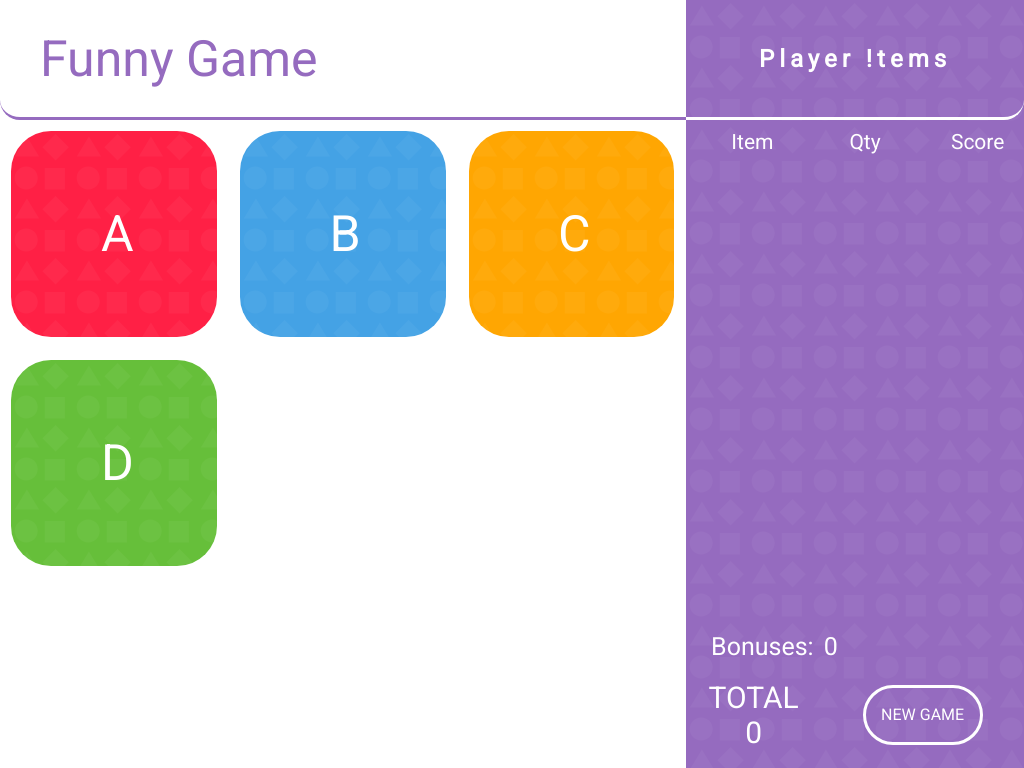
Scenario: test menu › item action
Click the element showing "A" at (114,234), box [11, 131, 217, 337]
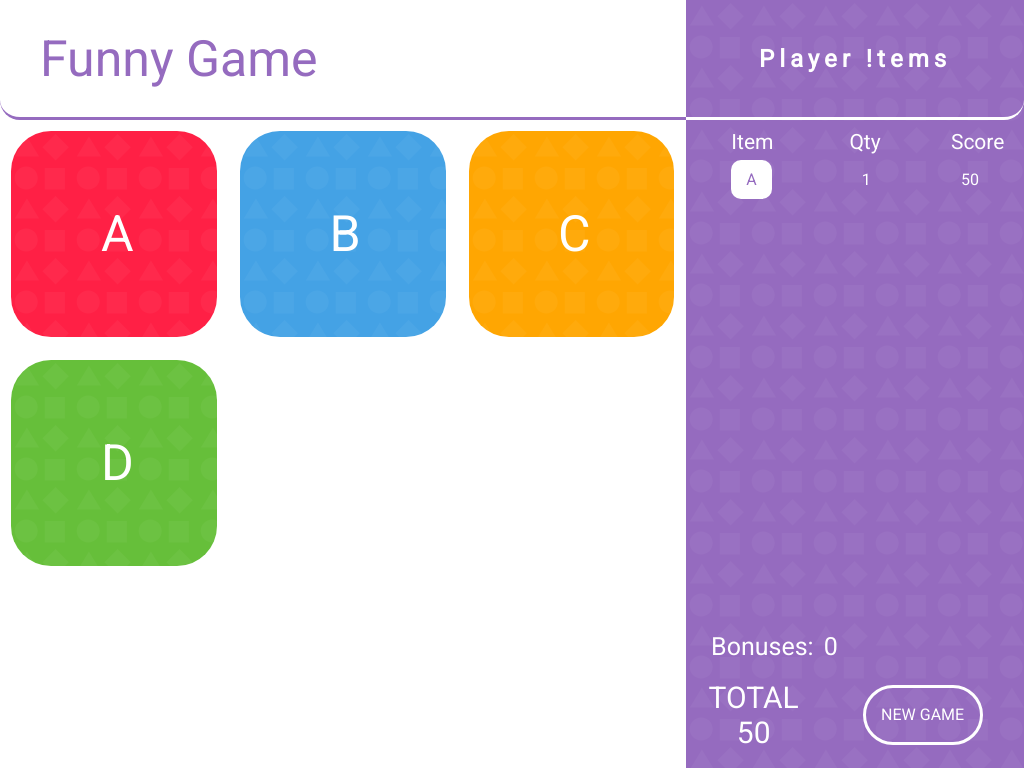
expect the text "50" below "TOTAL" is shown: met, box [737, 715, 771, 750]
expect the text "A" below "Item" is shown: met, box [746, 170, 756, 189]
expect the text "1" is shown: met, box [862, 170, 871, 188]
